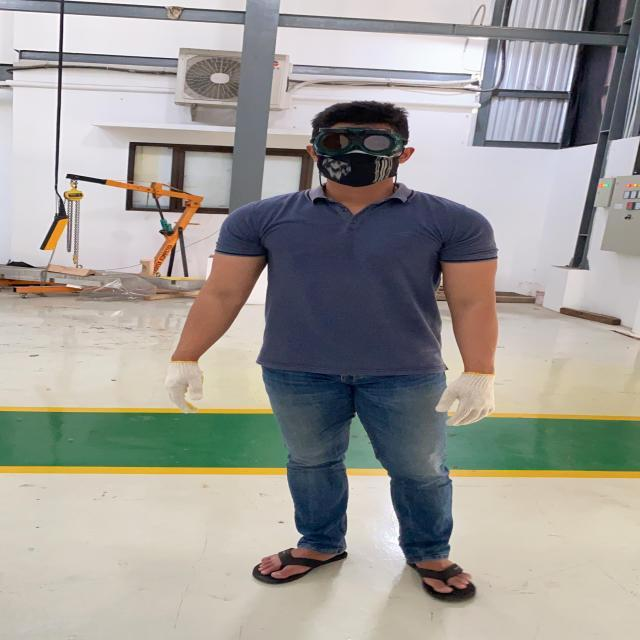glasses: (306, 124, 412, 156)
